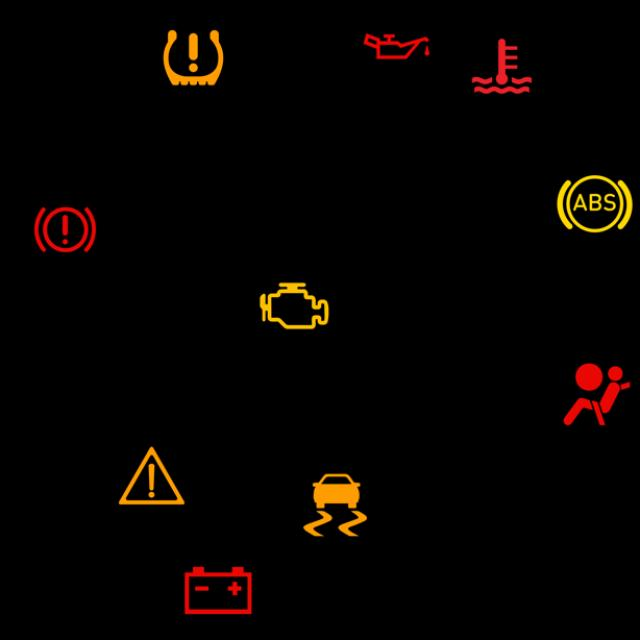Anti Lock Braking System: (553, 163, 636, 245)
Braking System Issue: (24, 189, 106, 271)
Charging System Issue: (177, 549, 260, 632)
Check Engine: (253, 265, 336, 347)
Electronic Stability Problem -ESP-: (294, 464, 376, 546)
Engine Overheating Warning Light: (461, 25, 543, 107)
Low Engine Oil Warning Light: (355, 5, 438, 88)
Low Tire Pressure Warning Light: (152, 17, 235, 99)
Master warning light: (110, 435, 193, 517)
SRS-Airbag: (555, 353, 638, 436)
